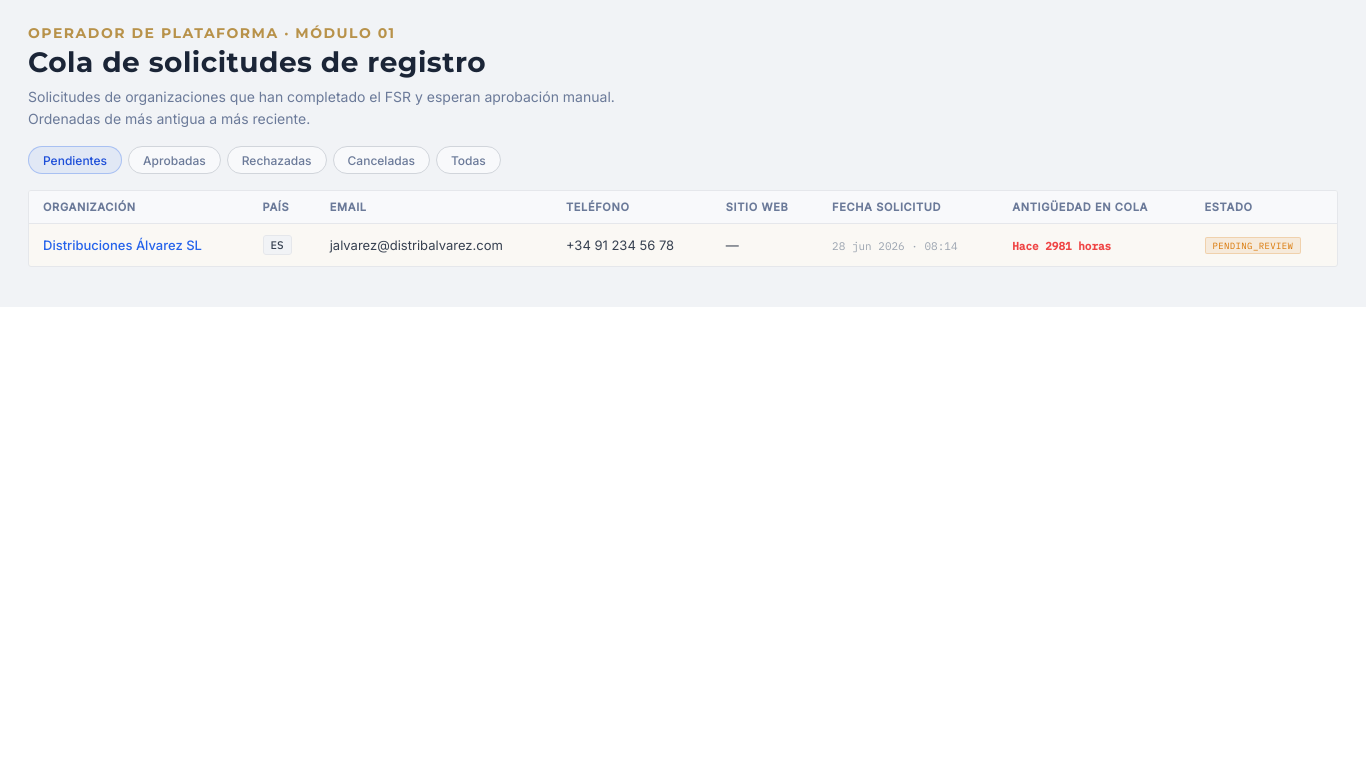
Test: AdminRequests › un fallo al aprobar deja los botones y muestra el error, sin cerrar el panel
Click the button "Distribuciones Álvarez SL": (122, 245) [43,237,202,253]
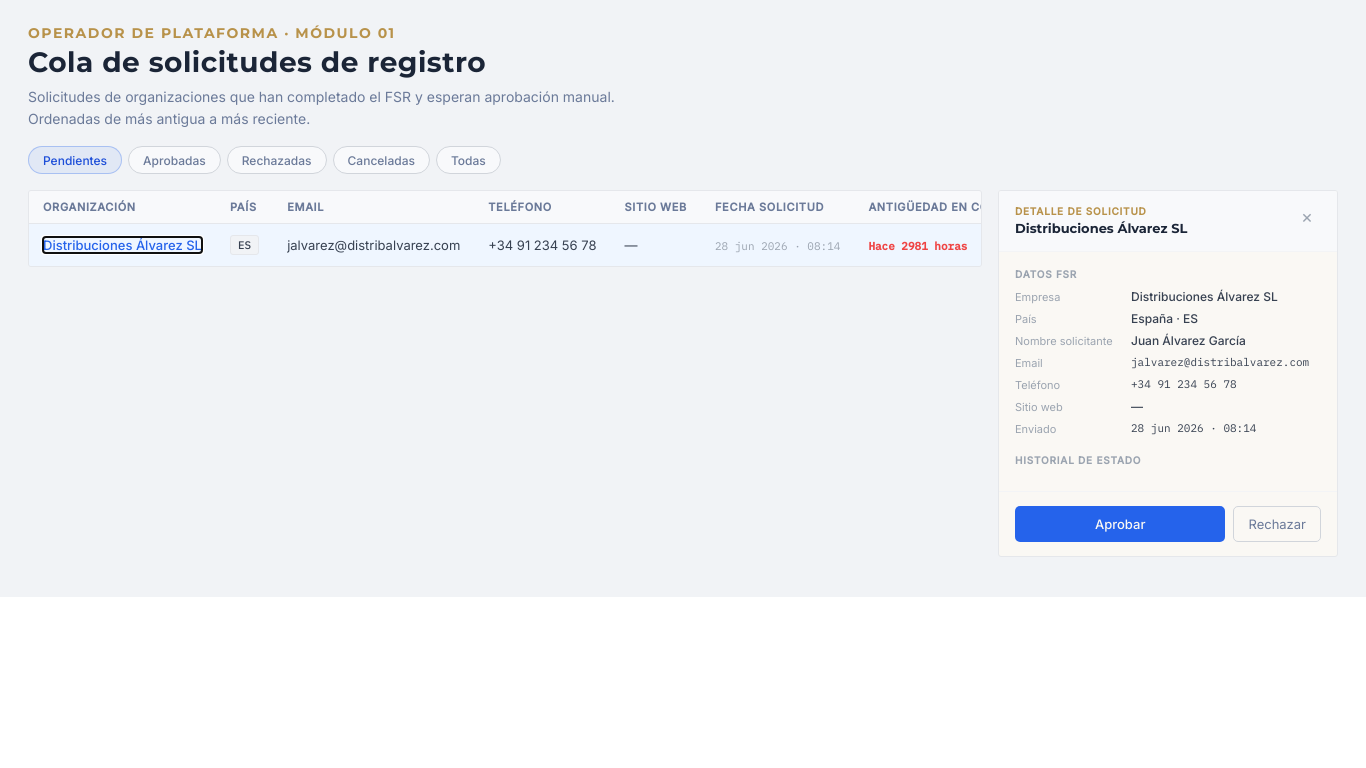
Click the button "Aprobar": (1120, 524) [1015,506,1226,542]
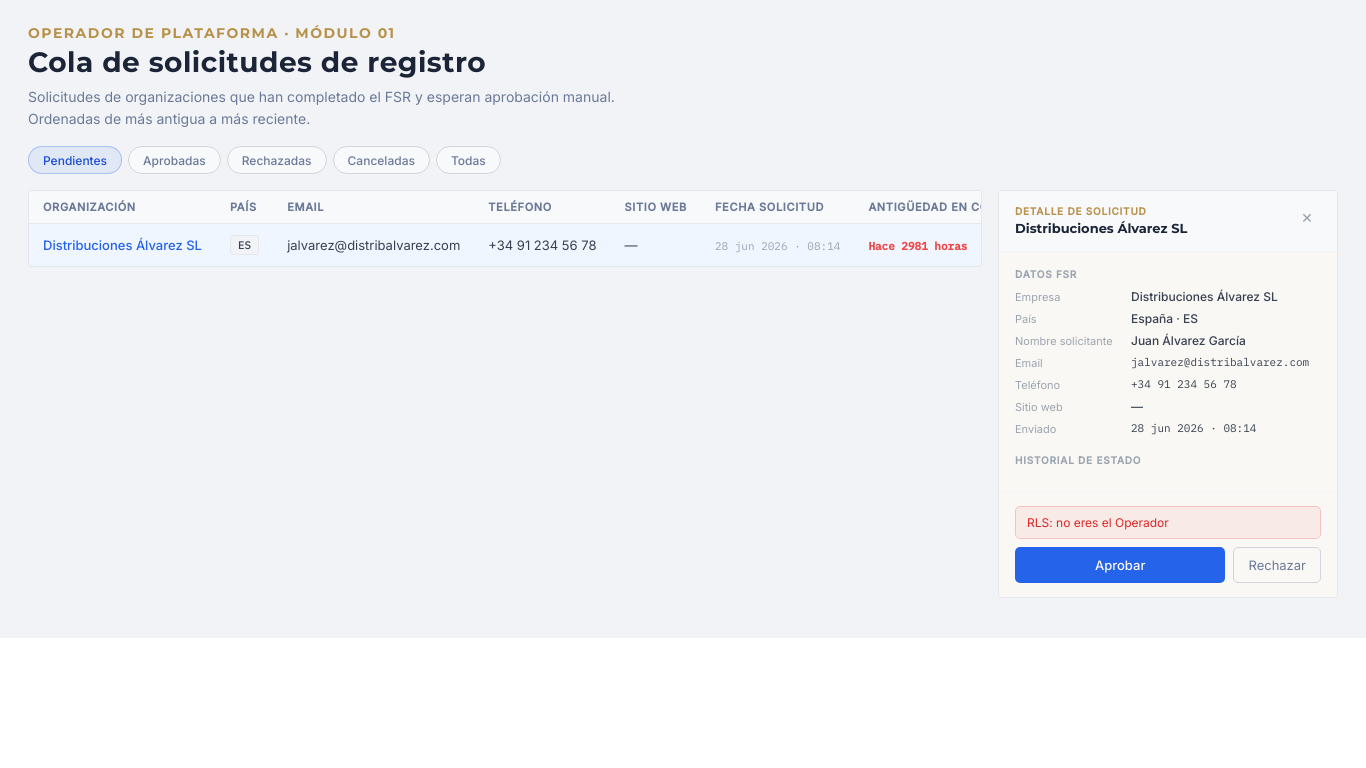
Check: the button "Aprobar" is shown, box [1015,547,1226,583]
Check: the message reads "RLS: no eres el Operador", box [1027,515,1169,530]
